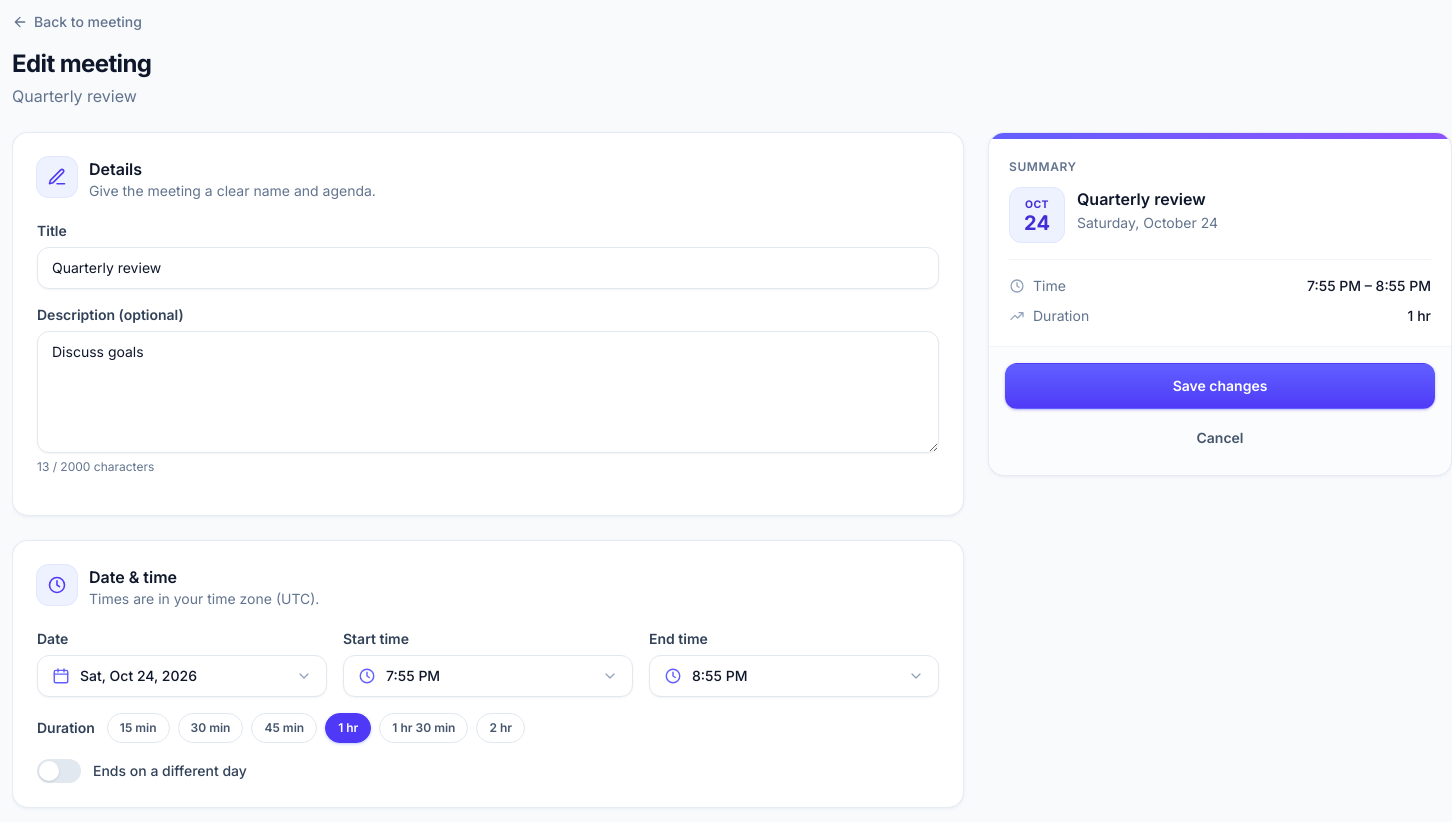
Test: EditMeetingPage › switches to the locked view when saving fails because the meeting has ended
Check: the heading "Edit meeting" is shown, box [12, 48, 151, 80]
Click the button "Save changes" at (1220, 386), box [1005, 363, 1435, 409]
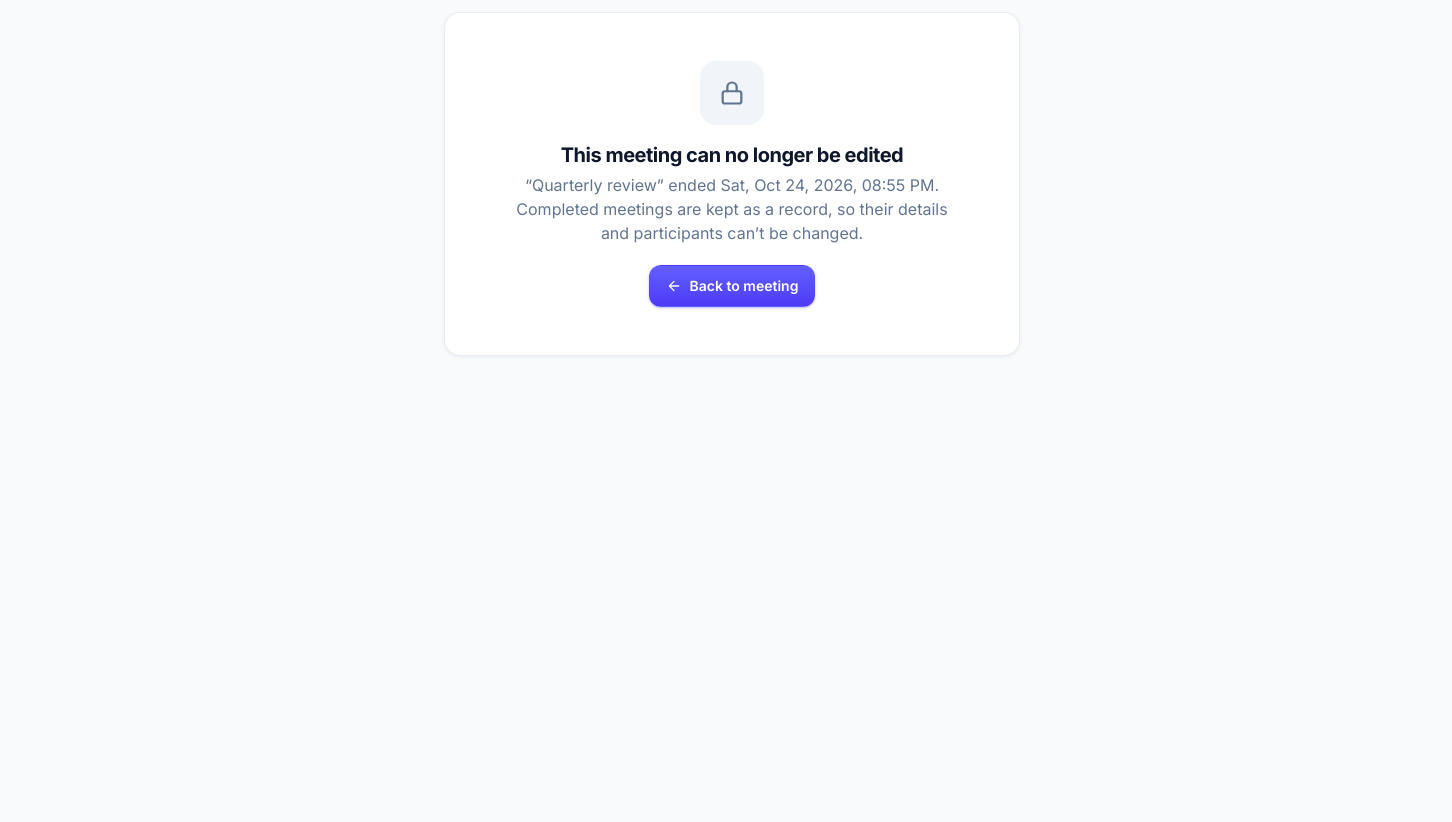
Check: the heading "This meeting can no longer be edited" is shown, box [561, 143, 903, 167]
